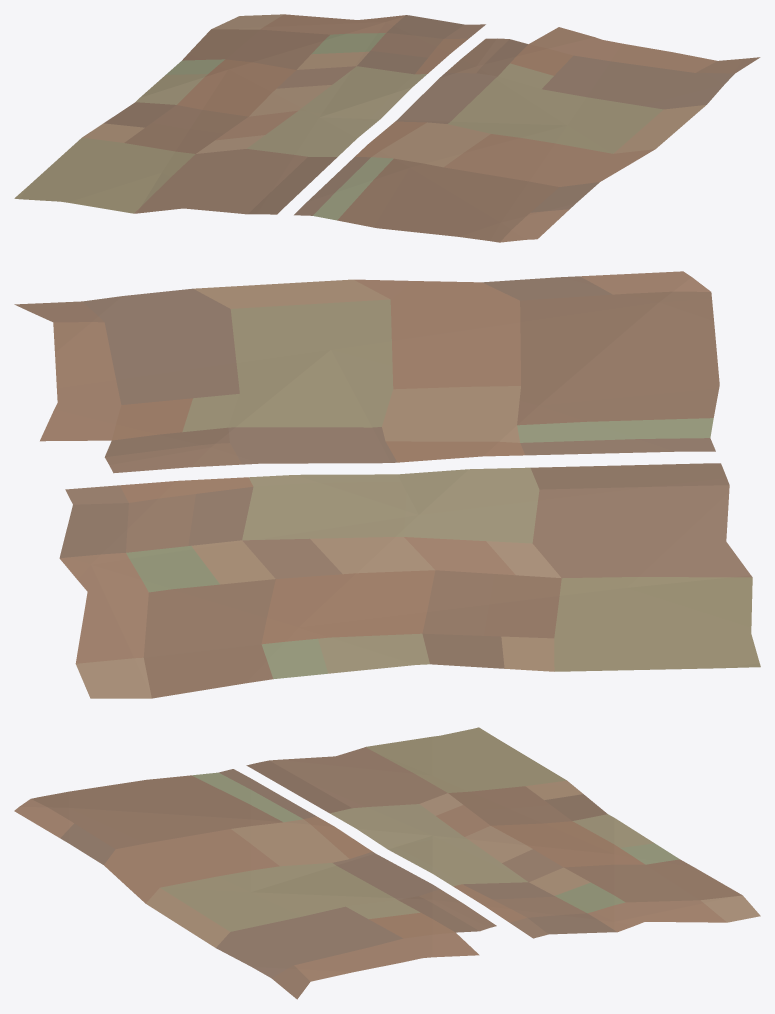
Rendered from farm_-17_-26_soil.glb.
3 views of the same model, one above another, from view 1: azimuth 30°, elevation 25°; view 2: azimuth 150°, elevation 25°; view 3: azimuth 270°, elevation 25° (orthographic). The views are drawn at different scales.
Visible parts, largest first — view 1: geometry_0; view 2: geometry_0; view 3: geometry_0.
Part boxes in pixels (<box>): geometry_0: <box>14,14,760,242</box>; geometry_0: <box>14,271,760,698</box>; geometry_0: <box>14,727,760,999</box>.
Bounding box in the file's own units: 334 × 33.21 × 329.
